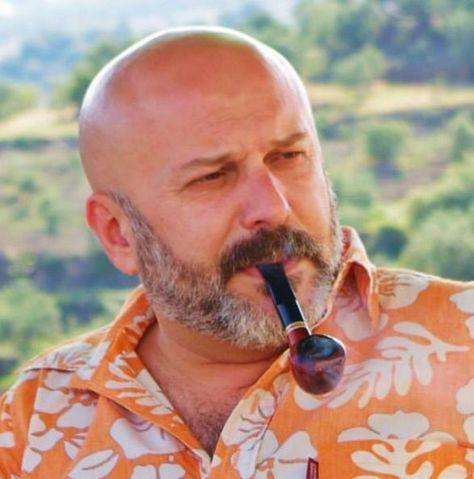trubka: (258, 263, 343, 393)
